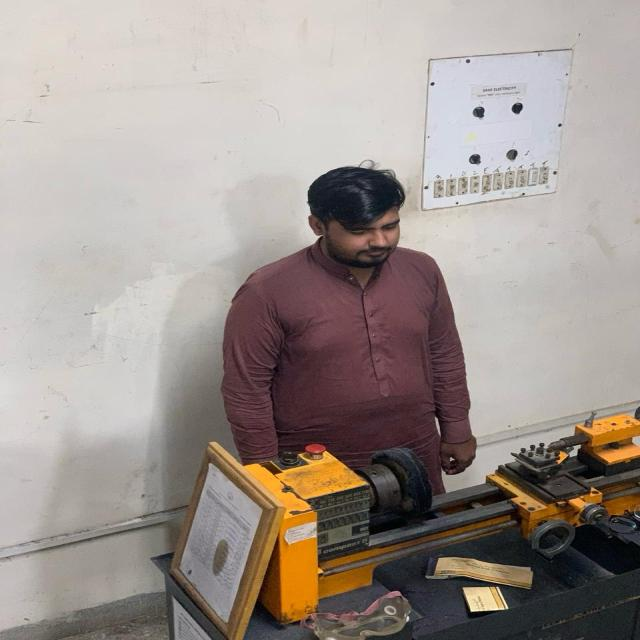dress: (215, 232, 482, 495)
